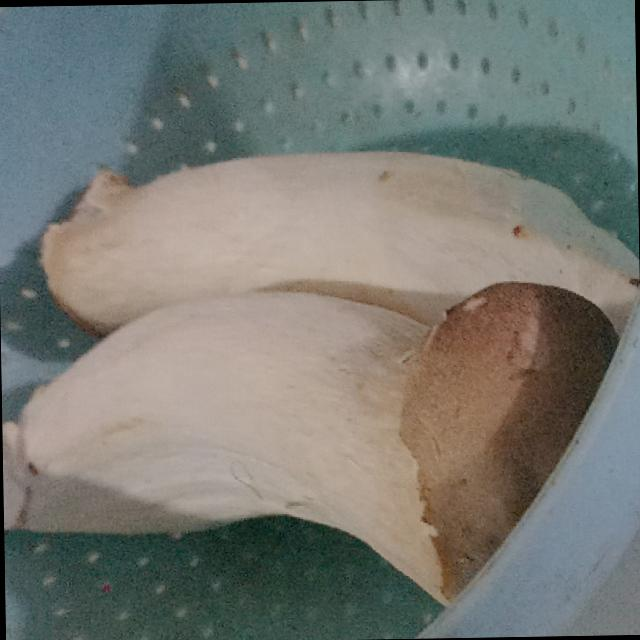Pleurotus eryngii: (0, 286, 621, 615)
